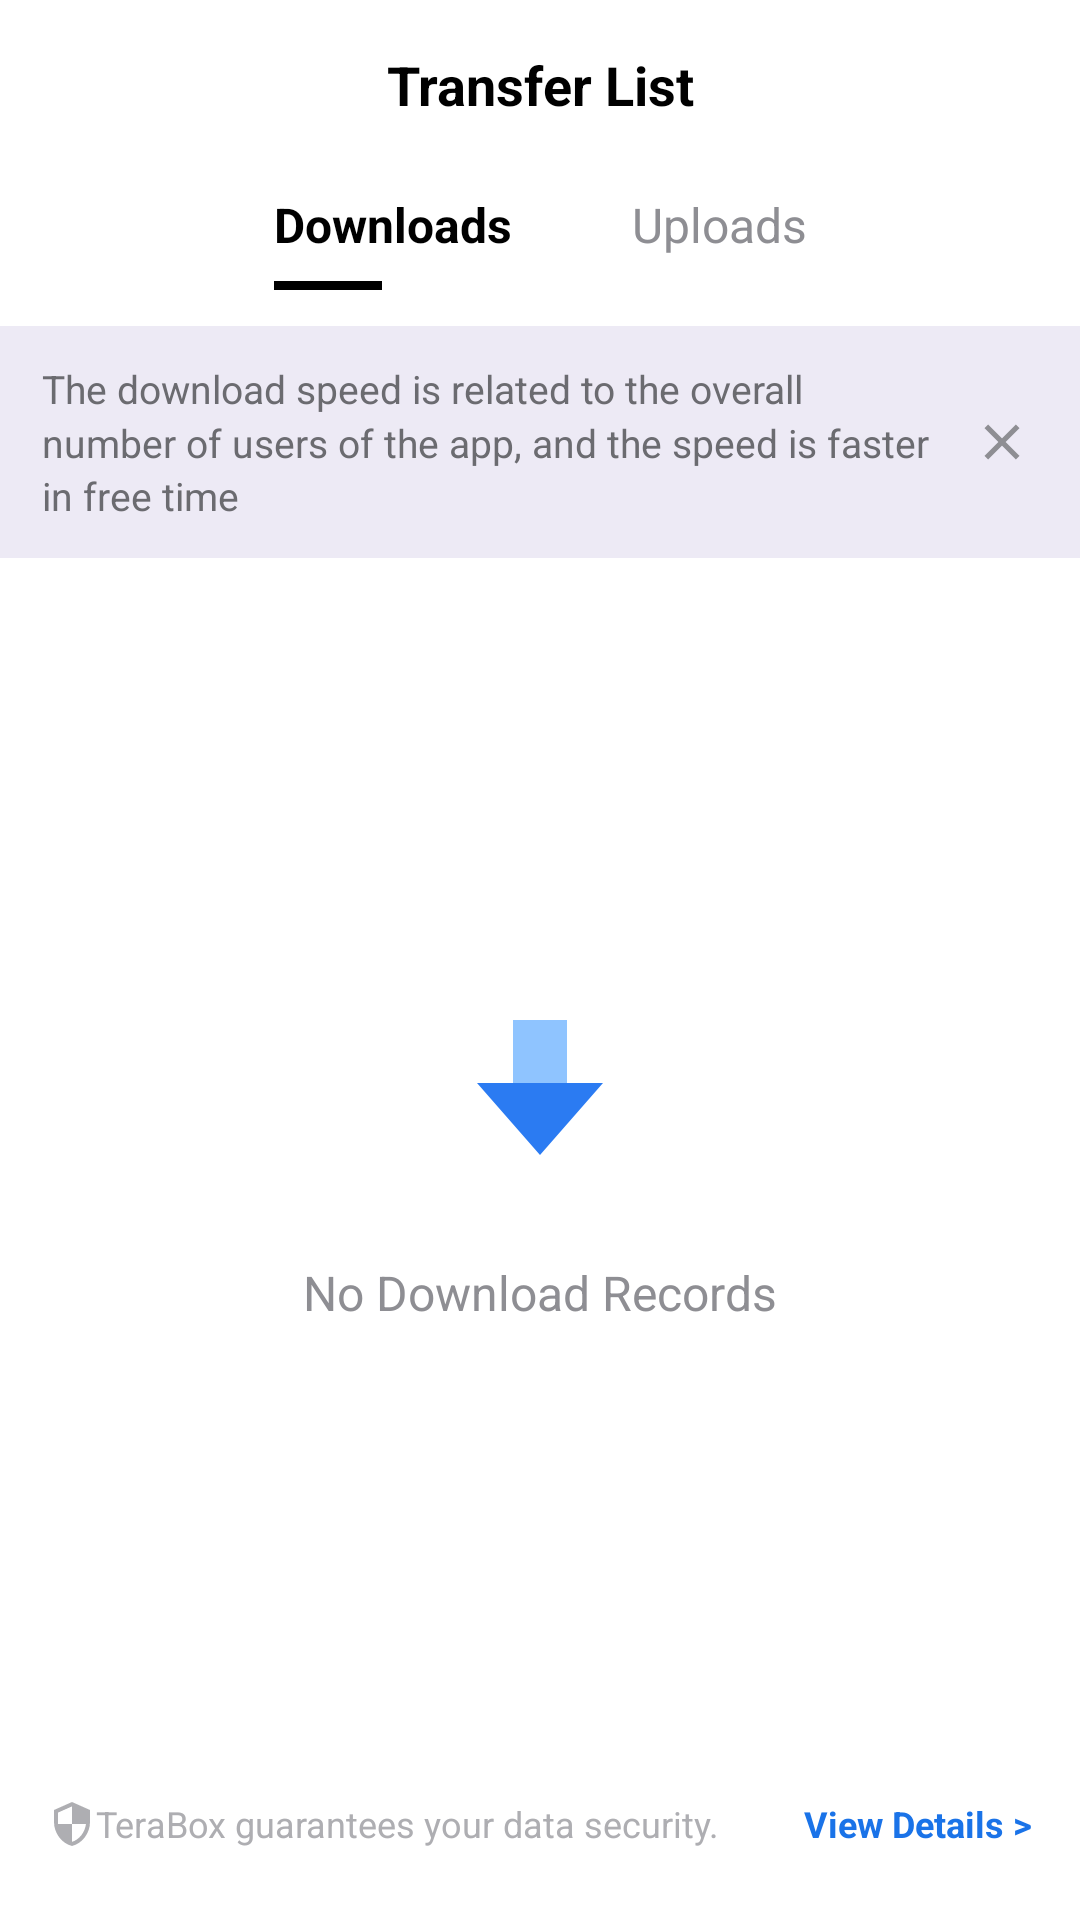

Icon click points for this 1080x1920 phone screenshot, format (x,y):
Dismiss: (1002,442)
transfer empty download: (540,1087)
transfer shield: (72,1824)
